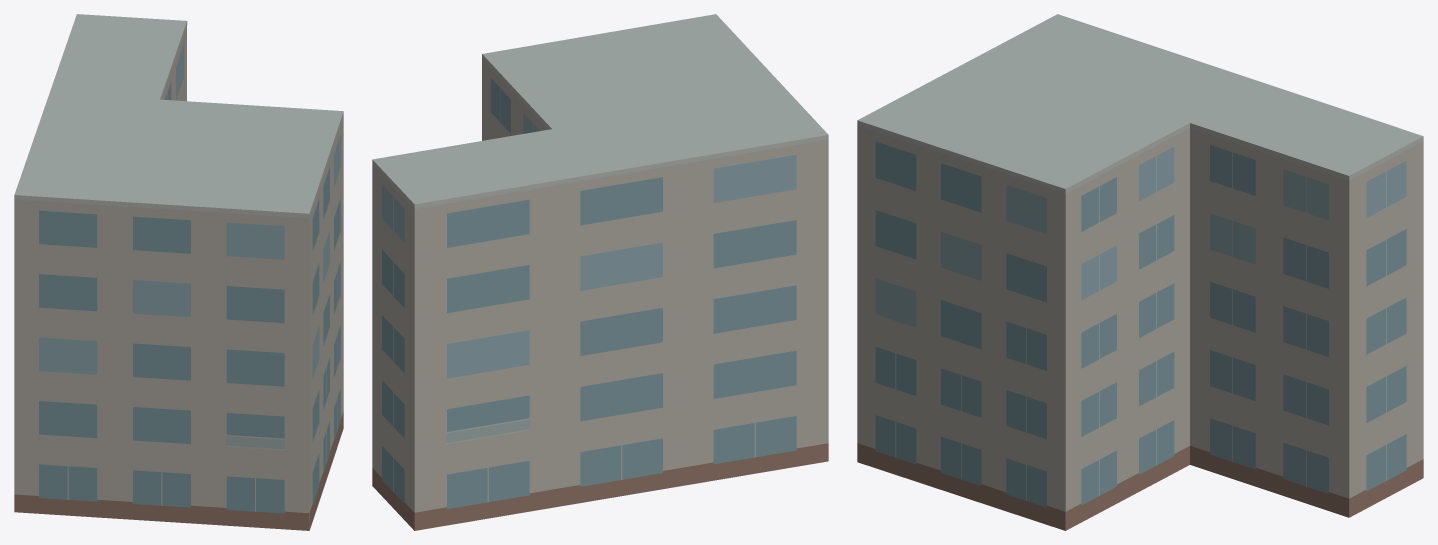
Rendered from survey-upis-32937407.glb.
The picture shows the model from 3 angles, left to right: view 1: azimuth 30°, elevation 25°; view 2: azimuth 150°, elevation 25°; view 3: azimuth 270°, elevation 25°; orthographic projection. The views are drawn at different scales.
Parts seen in each view (by area): view 1: survey-upis-32937407.tmp; view 2: survey-upis-32937407.tmp; view 3: survey-upis-32937407.tmp.
Boxes of the visible parts, box(x1,y1,x2,y2) form: survey-upis-32937407.tmp: box(14, 14, 343, 530); survey-upis-32937407.tmp: box(372, 14, 828, 530); survey-upis-32937407.tmp: box(857, 14, 1423, 530).
Bounding box in the file's own units: 18.9 × 17.2 × 25.84.
